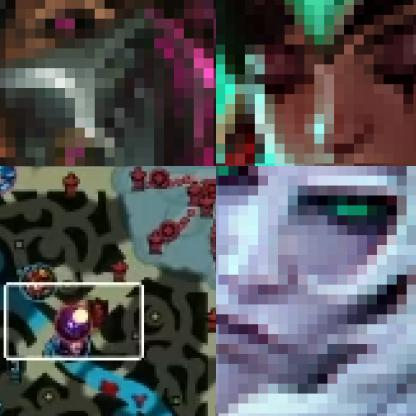Gwen: (0, 166, 18, 195)
Jarvan IV: (23, 268, 57, 300)
Karma: (216, 0, 415, 165)
Leblanc: (55, 328, 91, 363)
Malzahar: (54, 306, 91, 342)
Renata Glasc: (0, 0, 215, 165)
Viego: (216, 166, 415, 415)
